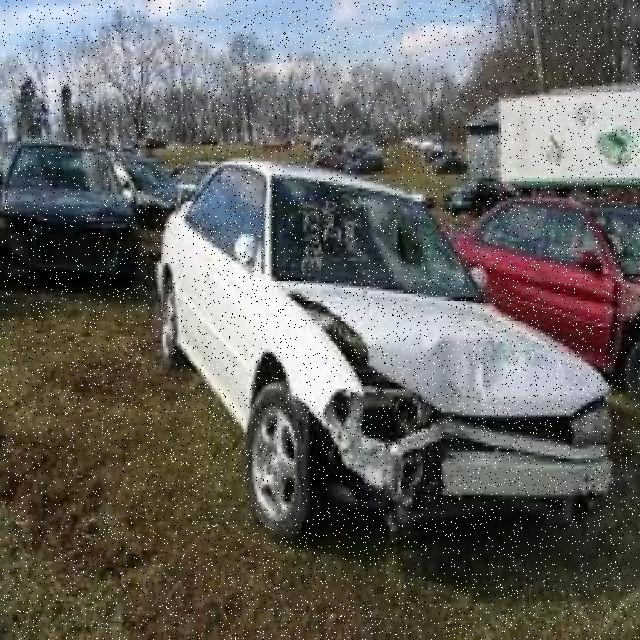damage: (275, 277, 608, 522)
